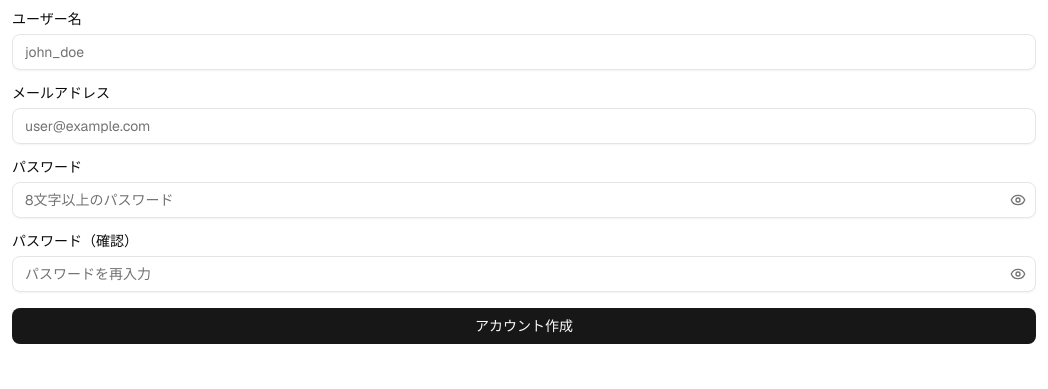
SignupForm › ユーザー名のバリデーション › ユーザー名に無効な文字が含まれる場合、エラーが表示される
In the field labelled "ユーザー名": (524, 52) [12,34,1036,70], type "user@name!"
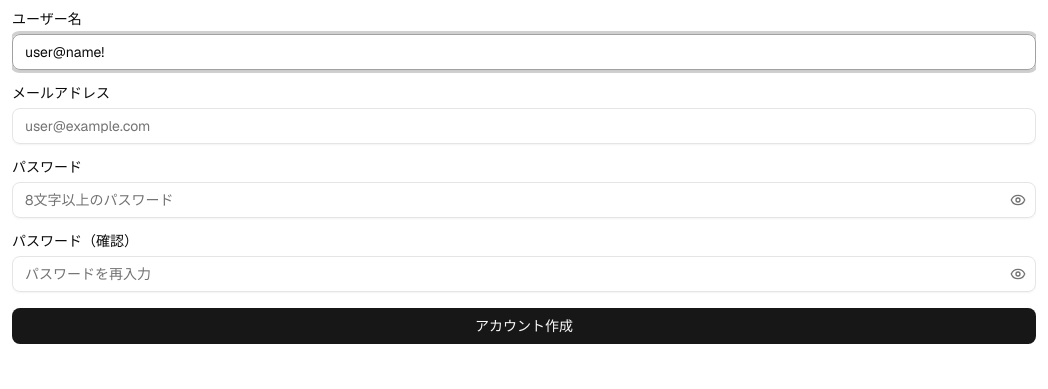
In the field labelled "メールアドレス": (524, 126) [12,108,1036,144], type "test@example.com"
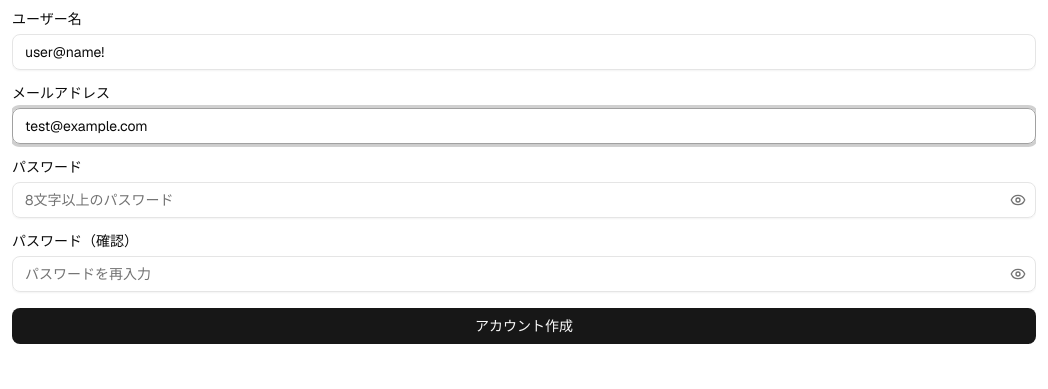
In the password field labelled "パスワード": (524, 200) [12,182,1036,218], type "password123"
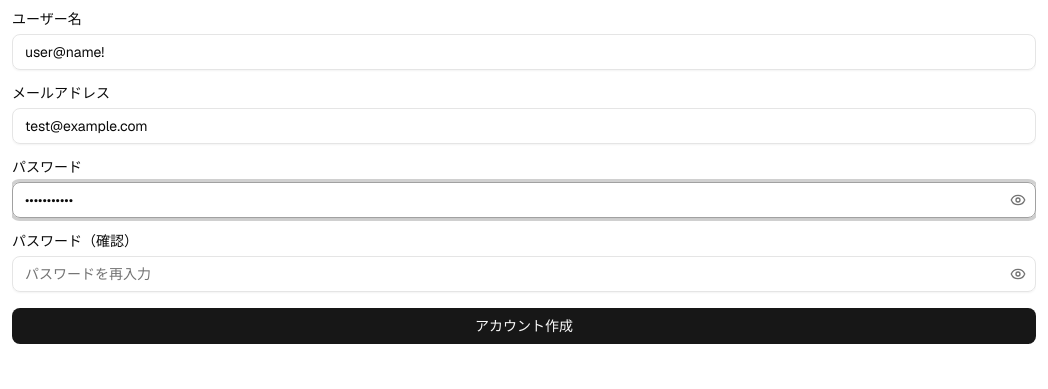
In the password field labelled "パスワード（確認）": (524, 274) [12,256,1036,292], type "password123"
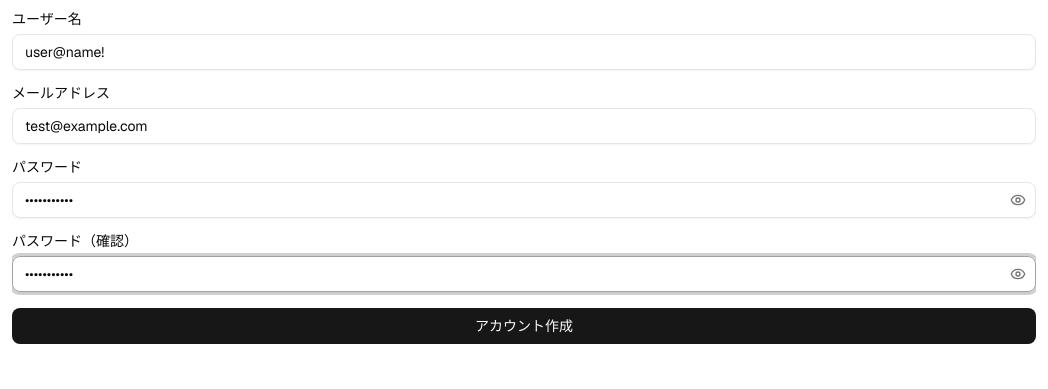
Click the button "アカウント作成": (524, 326) [12,308,1036,344]
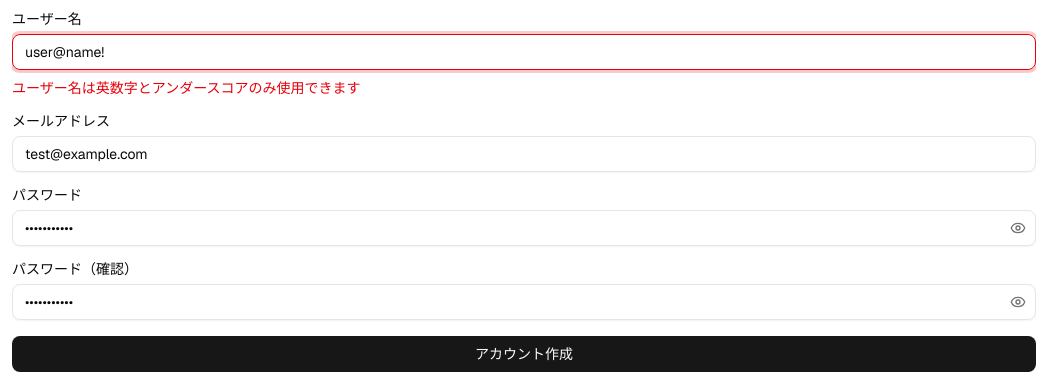
Now the text "ユーザー名は英数字とアンダースコアのみ使用できます" is shown, box [12,79,360,97]
